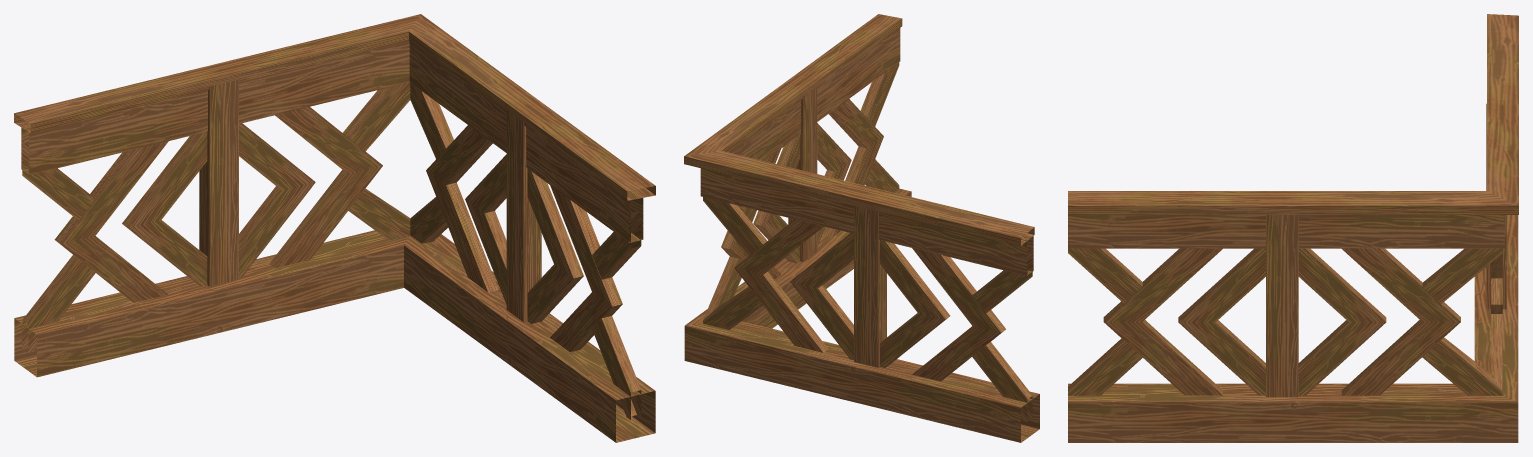
The model's file is Balcony_Cross_Corner.glb.
3 views of the same model, side by side, from view 1: azimuth 30°, elevation 25°; view 2: azimuth 150°, elevation 25°; view 3: azimuth 270°, elevation 25° (orthographic). The views are drawn at different scales.
Visible parts, largest first — view 1: Balcony_Cross_Corner; view 2: Balcony_Cross_Corner; view 3: Balcony_Cross_Corner.
Part boxes in pixels (x1,y1,x2,y2): Balcony_Cross_Corner: (14, 14, 655, 442); Balcony_Cross_Corner: (684, 14, 1039, 442); Balcony_Cross_Corner: (1068, 14, 1518, 442).
Size of the model in its own units: 2.1 by 1.23 by 2.1.
1 material, 1 textured.
